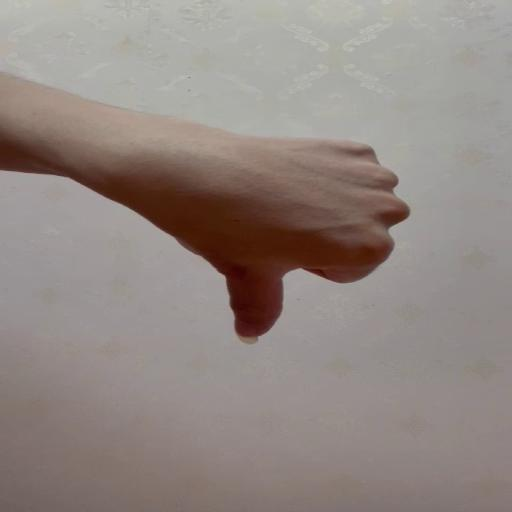thumbs_down: (151, 135, 412, 346)
